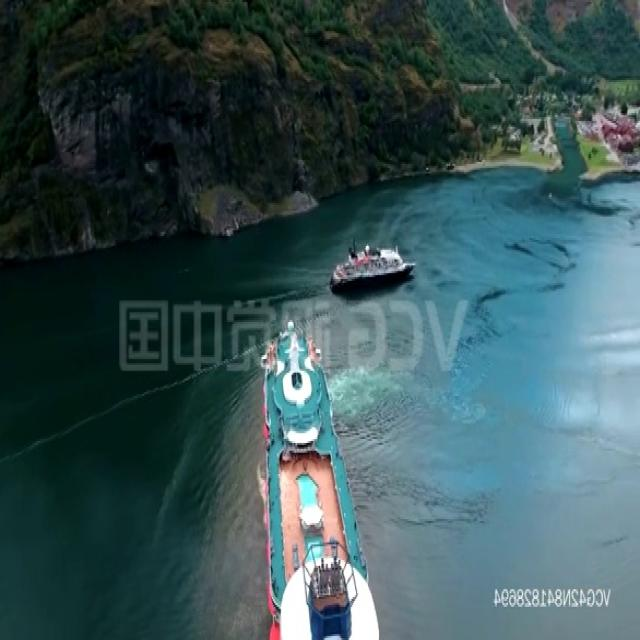passenger ship: (256, 320, 388, 640), (329, 240, 418, 292)
